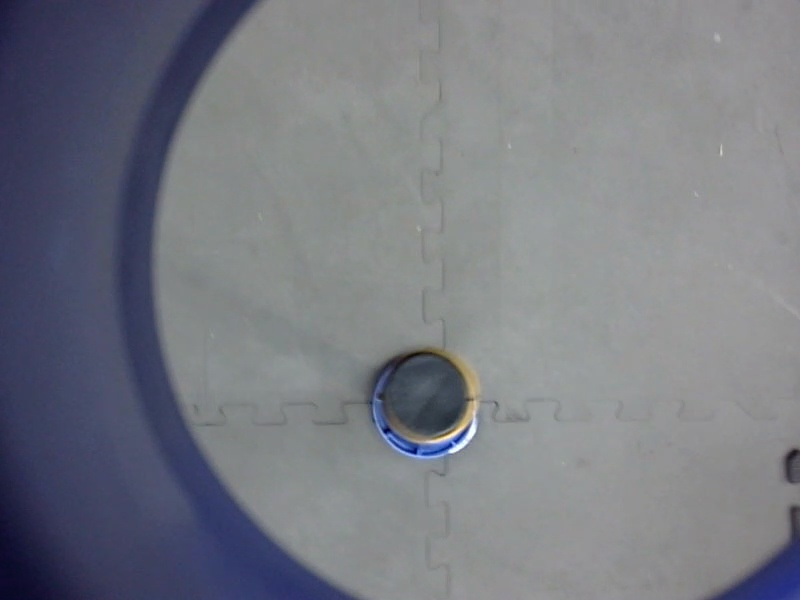tip: (377, 342, 483, 445)
